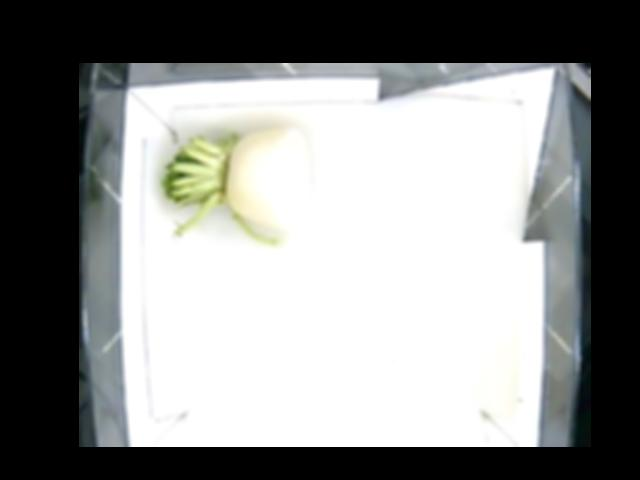Mooli: (164, 126, 310, 246)
